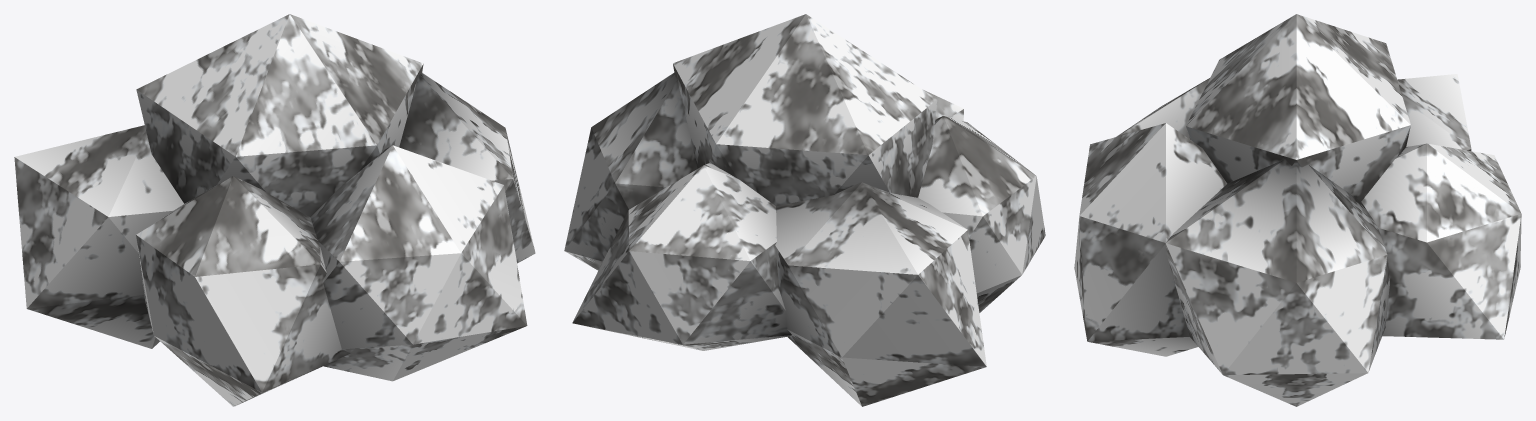
The picture shows the model from 3 angles, left to right: view 1: azimuth 30°, elevation 25°; view 2: azimuth 150°, elevation 25°; view 3: azimuth 270°, elevation 25°; orthographic projection.
Parts seen in each view (by area): view 1: bush_M_leaf_dark, bush_M_leaf; view 2: bush_M_leaf_dark, bush_M_leaf; view 3: bush_M_leaf_dark, bush_M_leaf.
Boxes of the visible parts, <box> form: bush_M_leaf_dark: <box>14,73,535,406</box>; bush_M_leaf: <box>136,14,423,217</box>; bush_M_leaf_dark: <box>564,73,1045,406</box>; bush_M_leaf: <box>673,14,937,205</box>; bush_M_leaf_dark: <box>1074,74,1521,406</box>; bush_M_leaf: <box>1186,14,1410,201</box>.
Size of the model in its own units: 1.09 by 0.8149 by 0.9778.
Materials: 2 (2 with a texture image).
